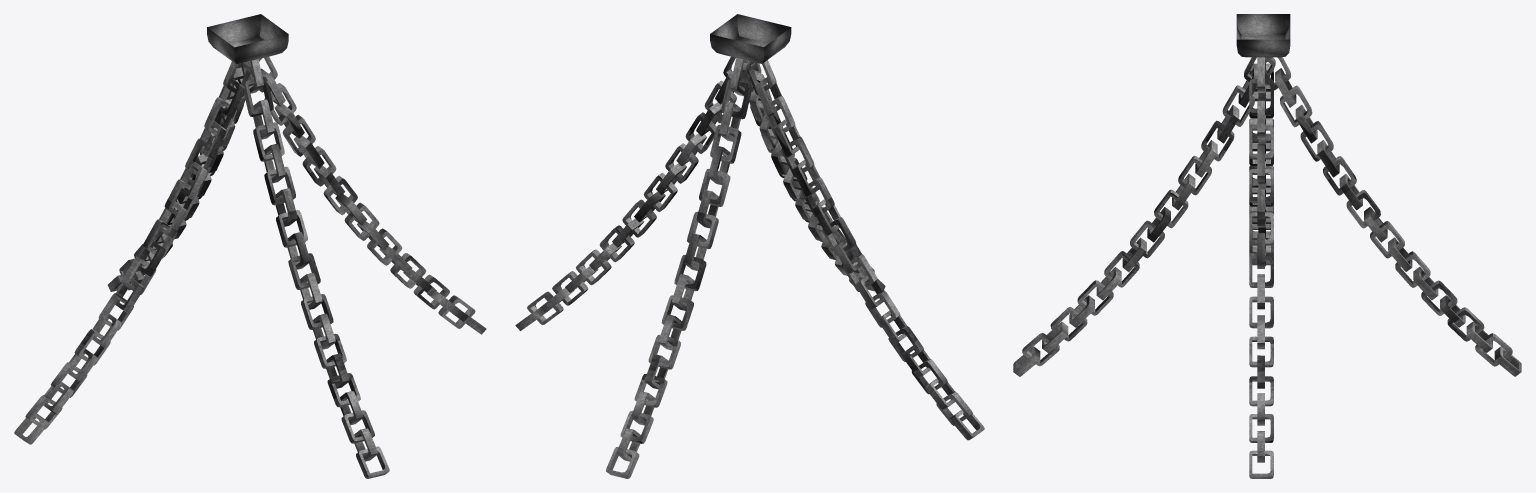
File: OU_AR_Chain_01_D.fbx
The picture shows the model from 3 angles, left to right: view 1: azimuth 30°, elevation 25°; view 2: azimuth 150°, elevation 25°; view 3: azimuth 270°, elevation 25°; orthographic projection. The views are drawn at different scales.
Visible parts, largest first — view 1: OU_AR_Chain_01_D; view 2: OU_AR_Chain_01_D; view 3: OU_AR_Chain_01_D.
Boxes of the visible parts, left/top/right/bottom form: OU_AR_Chain_01_D: left=14, top=14, right=486, bottom=478; OU_AR_Chain_01_D: left=515, top=14, right=984, bottom=478; OU_AR_Chain_01_D: left=1013, top=14, right=1521, bottom=478.
Size of the model in its own units: 143 by 105 by 140.
Materials: 2 (2 with a texture image).
